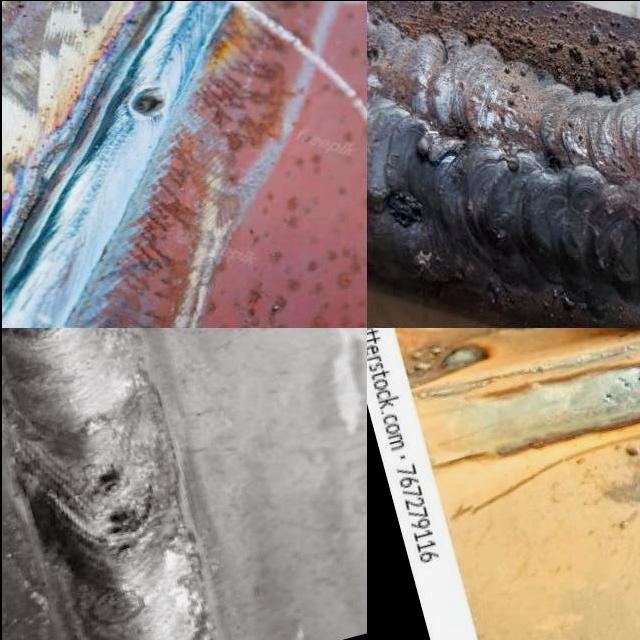defect: (92, 500, 158, 562), (78, 460, 135, 501), (381, 180, 427, 229), (599, 373, 640, 408), (121, 88, 164, 121), (545, 149, 562, 173)
